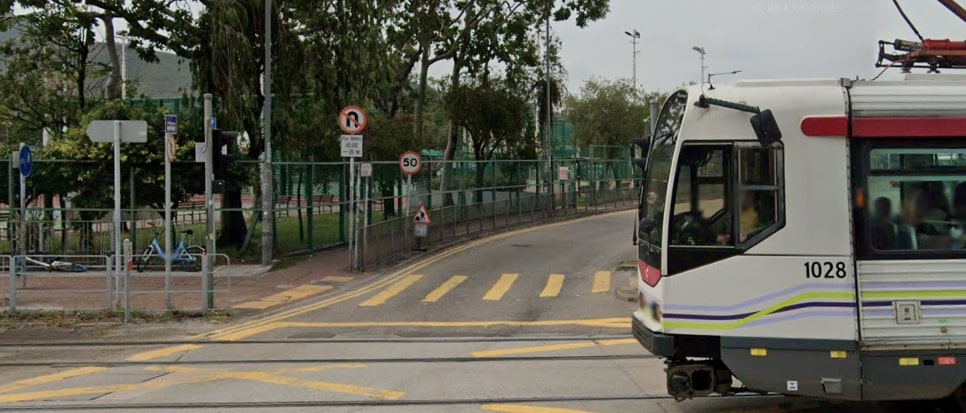No Uturn: (336, 107, 362, 130)
Speed Limit: (400, 153, 422, 173)
